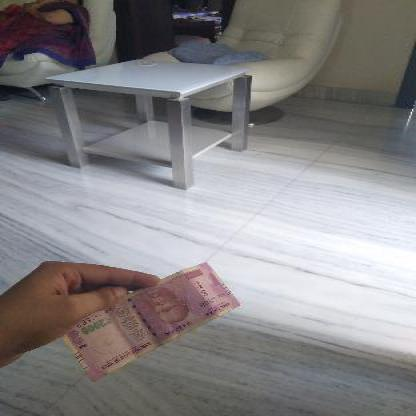New2000Front: (62, 260, 238, 375)
